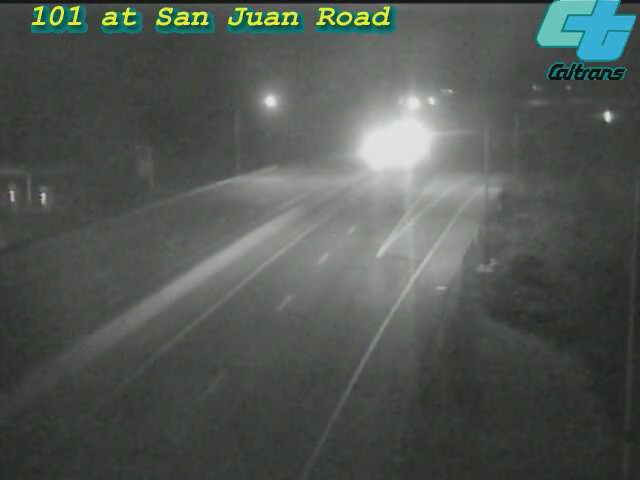vehicle: (582, 91, 632, 141), (350, 125, 400, 175), (372, 117, 422, 167)
